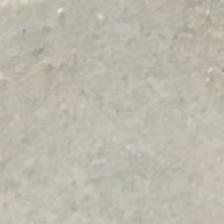Non_Crack: (15, 5, 224, 205)
